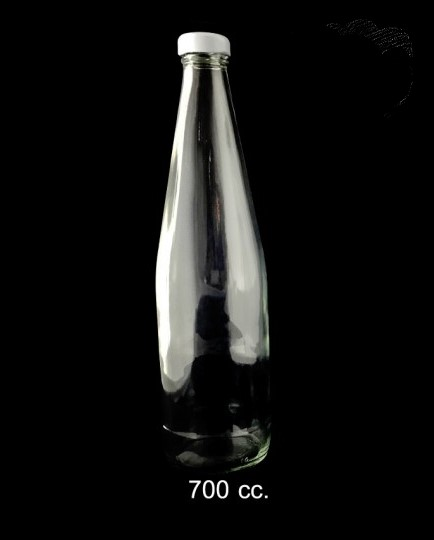glass_bottle: (152, 28, 274, 481)
